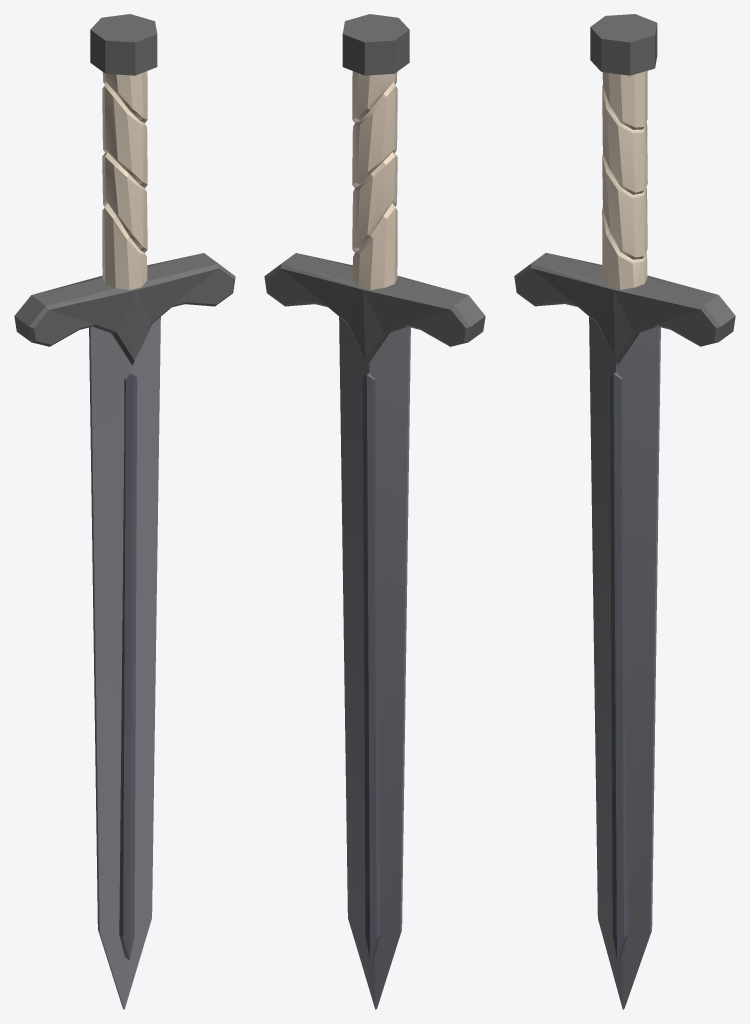
The model's file is _SWORD_1.fbx.
The picture shows the model from 3 angles, left to right: view 1: azimuth 30°, elevation 25°; view 2: azimuth 150°, elevation 25°; view 3: azimuth 330°, elevation 25°; orthographic projection.
Parts seen in each view (by area): view 1: SWORD_1; view 2: SWORD_1; view 3: SWORD_1.
Part boxes in pixels (x1,y1,x2,y2): SWORD_1: (14, 14, 235, 1009); SWORD_1: (264, 14, 485, 1009); SWORD_1: (514, 14, 735, 1009).
Bounding box in the file's own units: 19.29 × 87.5 × 5.47.
